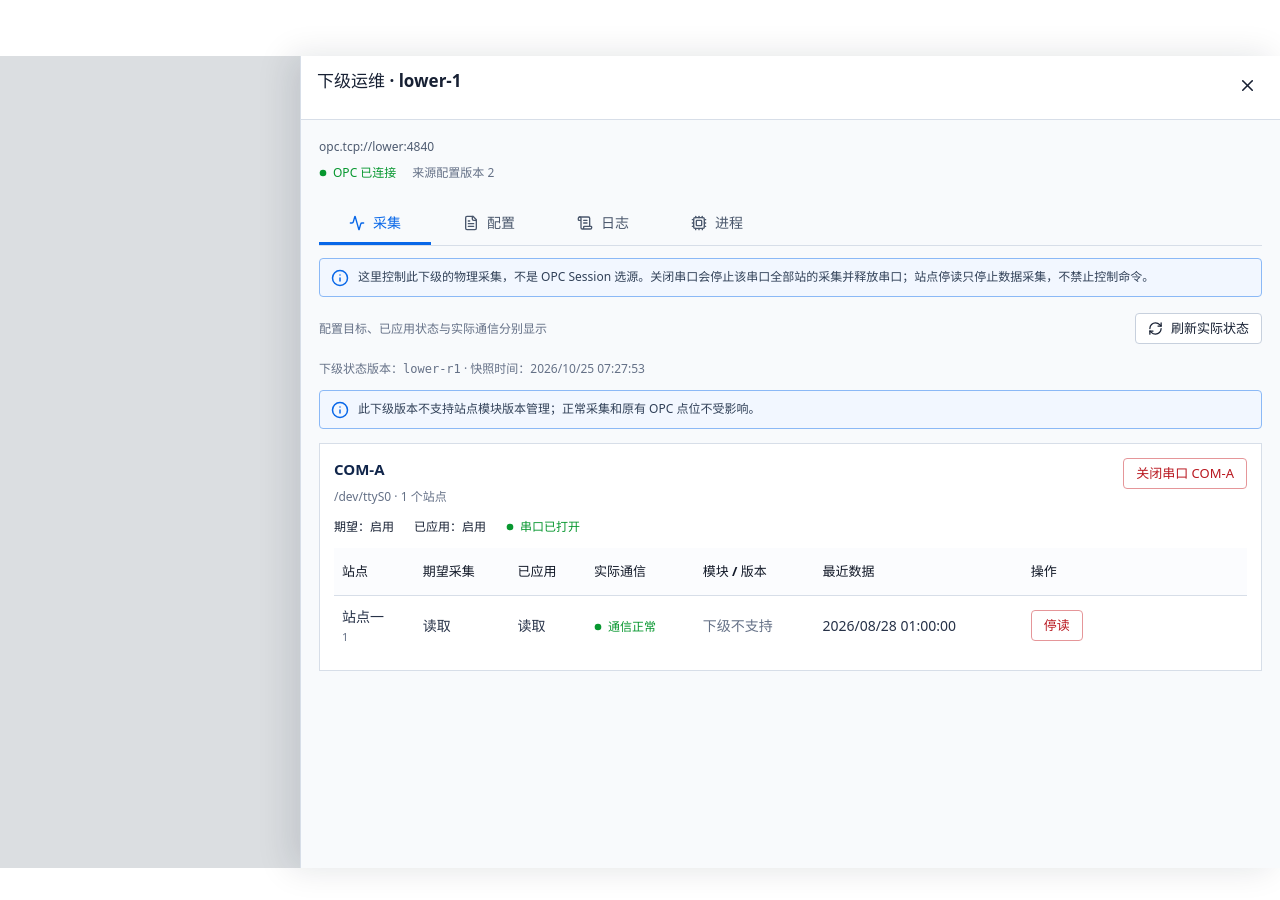
Test: physical lower-source operations drawer › requires confirmation before releasing a port and uses the captured revisions
Click the button "关闭串口 COM-A": click(1185, 474) [1123,458,1247,489]
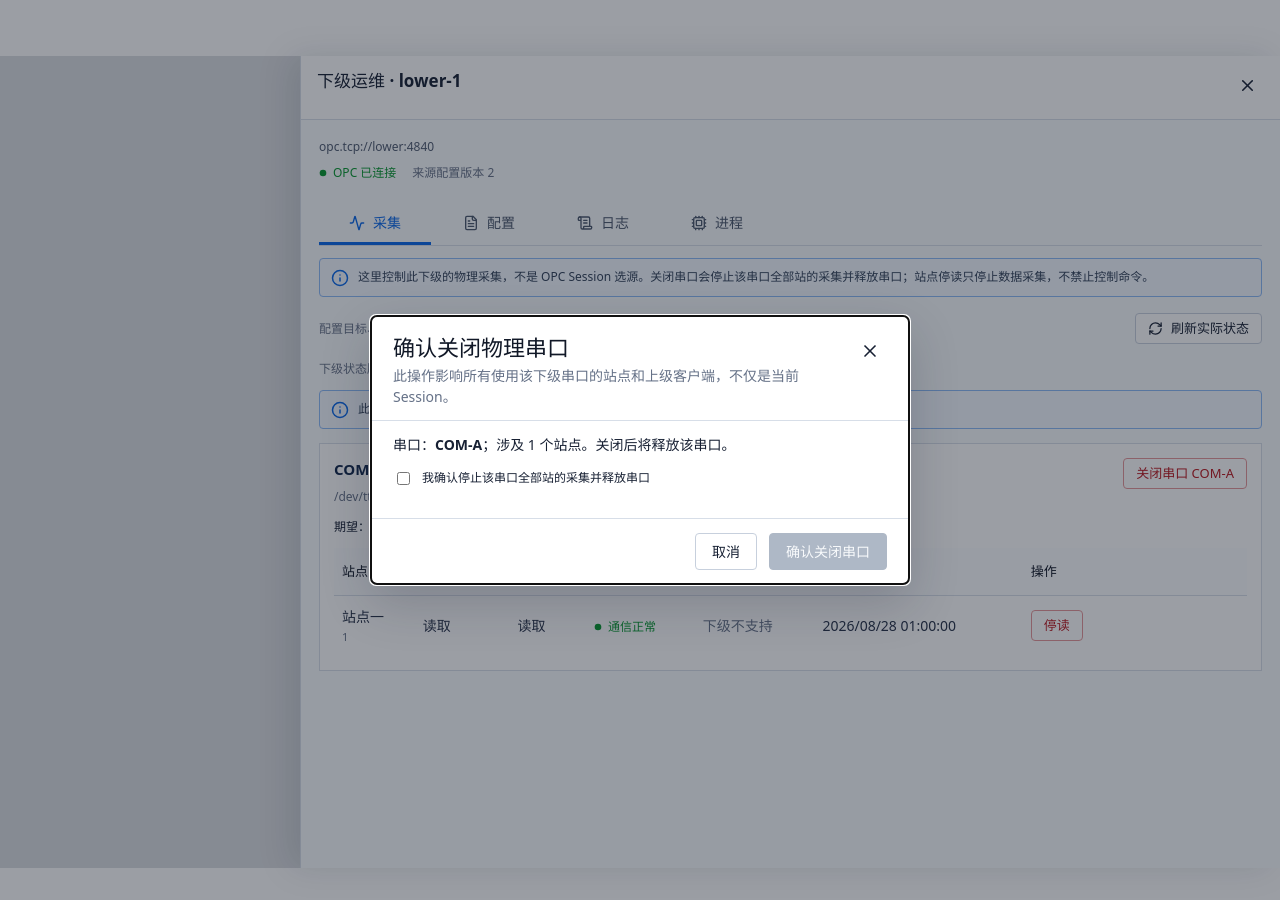
Expected: the button "确认关闭串口" is disabled, [769,533,887,570]
Click the checkbox labelled "我确认停止该串口全部站的采集并释放串口": click(404, 479) [397,472,410,485]
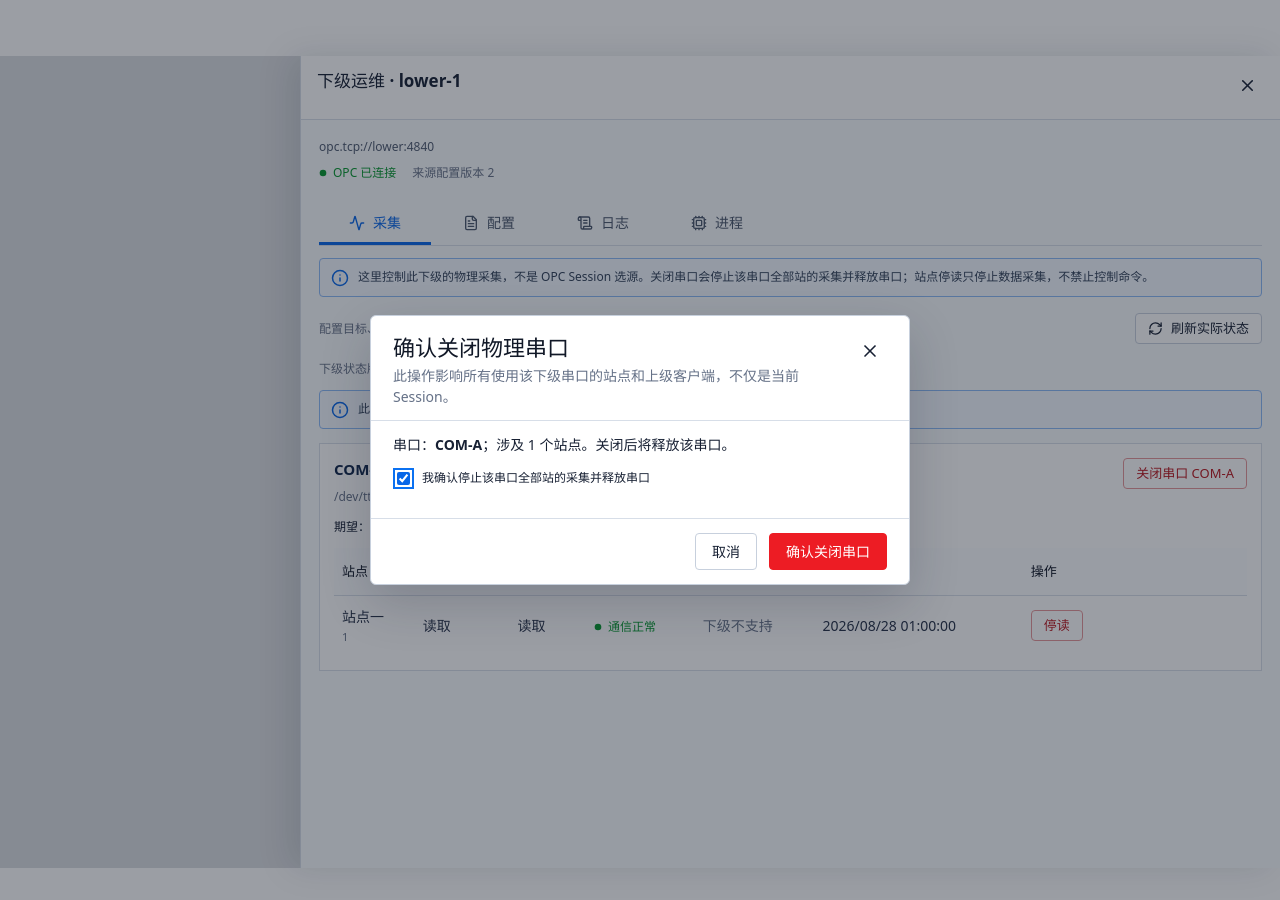
Click the button "确认关闭串口": click(828, 552) [769,533,887,570]
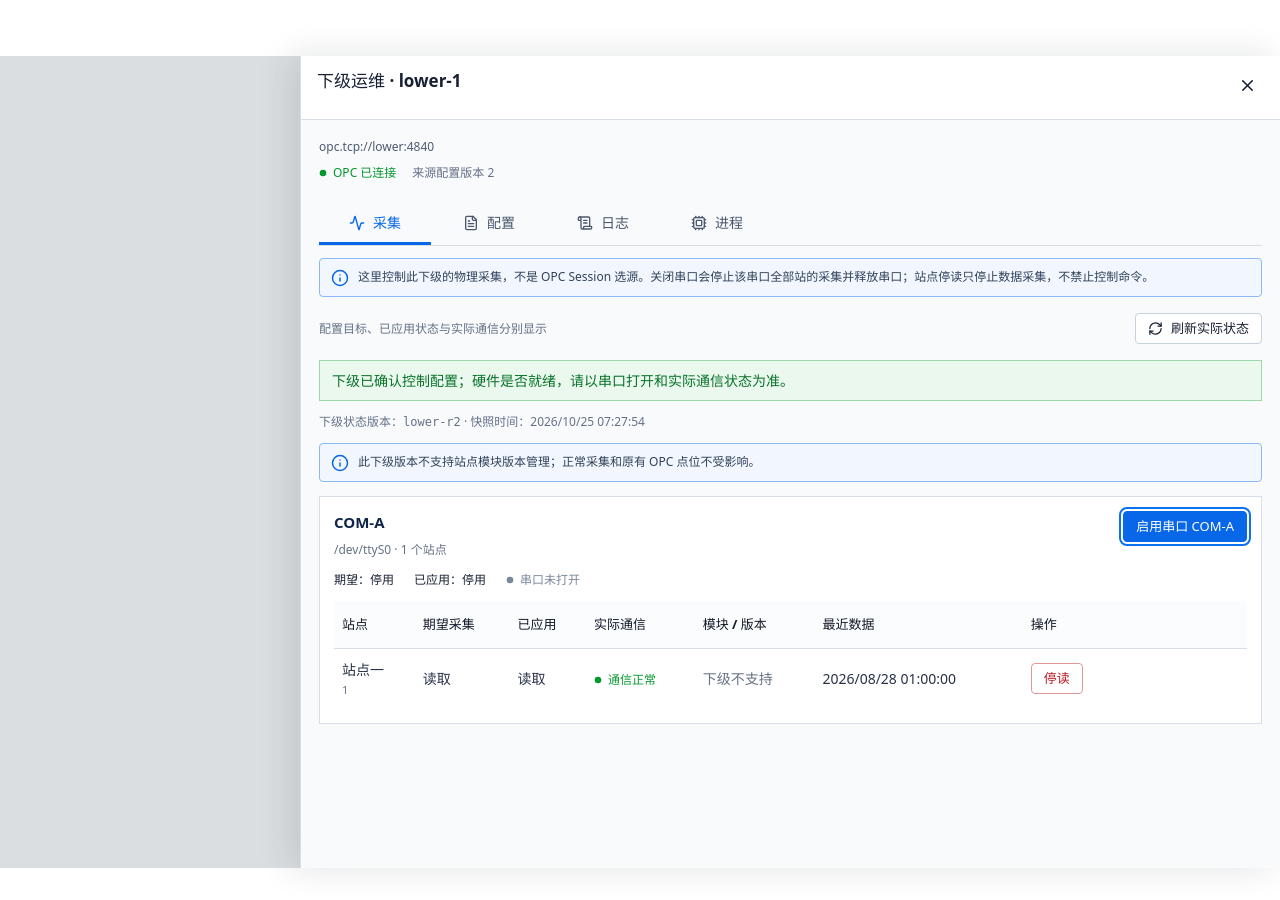
Expected: the button "启用串口 COM-A" is shown, [1123,511,1247,542]
Expected: the text "下级已确认控制配置；硬件是否就绪，请以串口打开和实际通信状态为准。" is shown, [319,360,1262,401]
